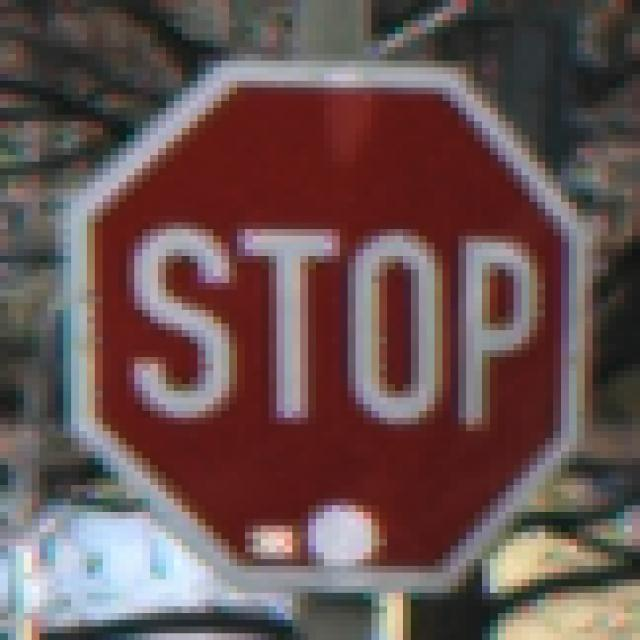STOP: (64, 62, 586, 587)
